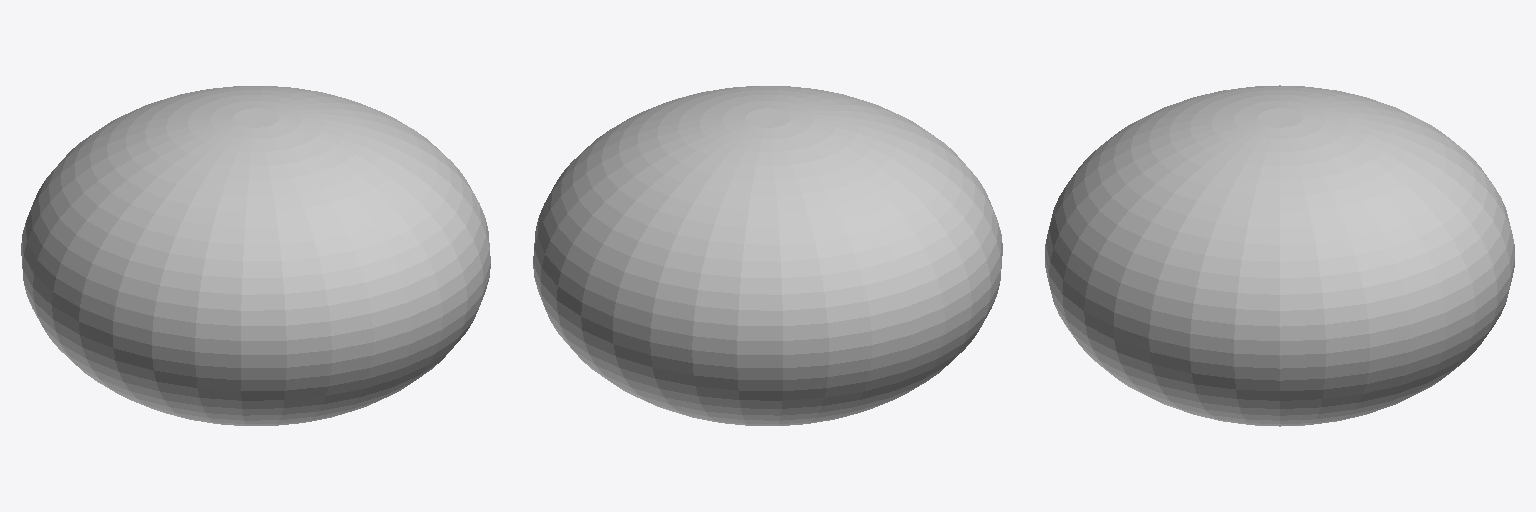
File: body.obj
3 views of the same model, side by side, from view 1: azimuth 30°, elevation 25°; view 2: azimuth 150°, elevation 25°; view 3: azimuth 270°, elevation 25° (orthographic).
Visible parts, largest first — view 1: Sphere_Sphere.001; view 2: Sphere_Sphere.001; view 3: Sphere_Sphere.001.
Boxes of the visible parts, x1,y1,x2,y2 form: Sphere_Sphere.001: [21, 86, 490, 425]; Sphere_Sphere.001: [533, 86, 1002, 425]; Sphere_Sphere.001: [1045, 85, 1514, 426].
Bounding box in the file's own units: 2 × 1.29 × 2.